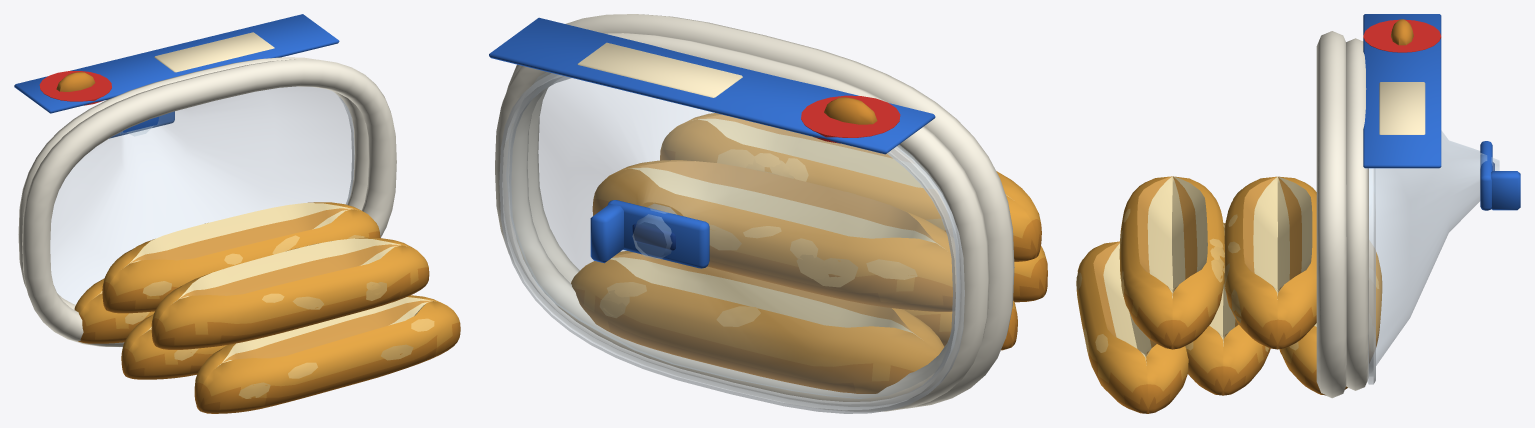
Rendered from dispenser_hotdog_buns.glb.
The picture shows the model from 3 angles, left to right: view 1: azimuth 30°, elevation 25°; view 2: azimuth 150°, elevation 25°; view 3: azimuth 270°, elevation 25°; orthographic projection. The views are drawn at different scales.
Parts seen in each view (by area): view 1: DispenserHotdogBuns; view 2: DispenserHotdogBuns; view 3: DispenserHotdogBuns.
Part boxes in pixels (x1,y1,x2,y2): DispenserHotdogBuns: [14, 14, 460, 413]; DispenserHotdogBuns: [489, 14, 1047, 413]; DispenserHotdogBuns: [1076, 14, 1520, 413].
Size of the model in its own units: 5.9 by 3.93 by 5.71.
